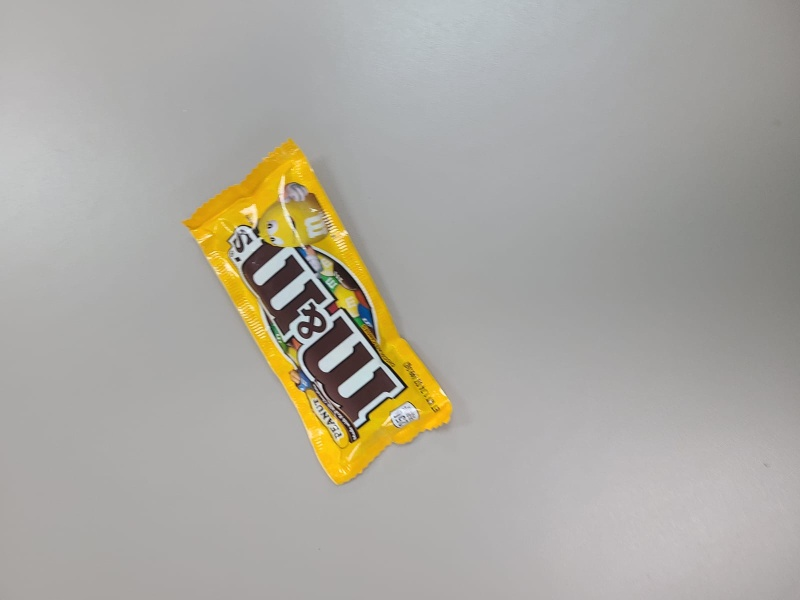m&m: (180, 139, 454, 486)
